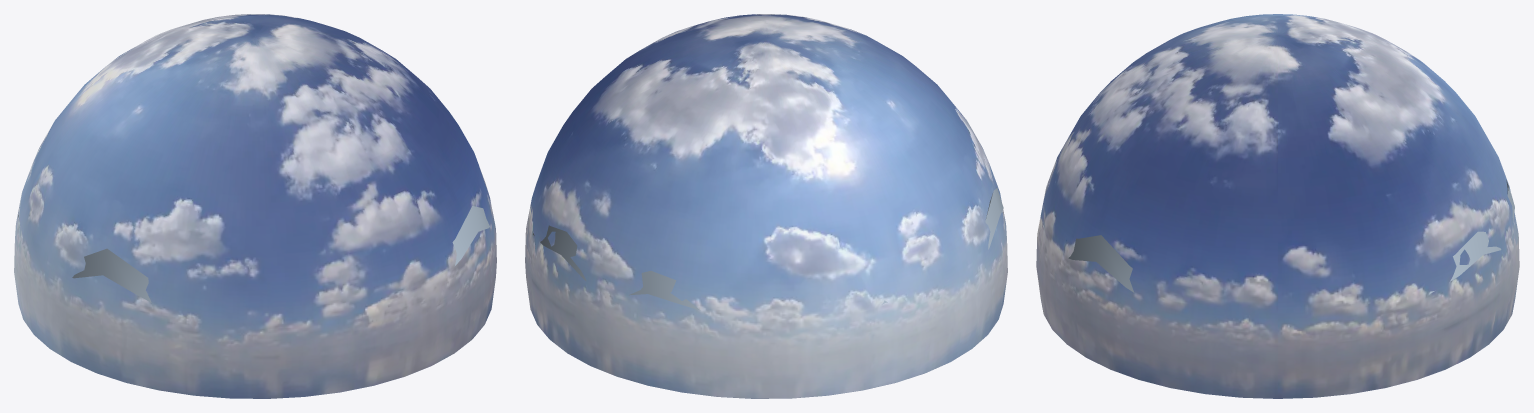
Rendered from shed-Ba9jpftx.glb.
3 views of the same model, side by side, from view 1: azimuth 30°, elevation 25°; view 2: azimuth 150°, elevation 25°; view 3: azimuth 270°, elevation 25° (orthographic).
Parts seen in each view (by area): view 1: SET_sky, SET_backdrop; view 2: SET_sky, SET_backdrop; view 3: SET_sky, SET_backdrop.
Boxes of the visible parts, <box> form: SET_sky: <box>14,14,496,398</box>; SET_backdrop: <box>18,206,489,302</box>; SET_sky: <box>525,14,1007,398</box>; SET_backdrop: <box>533,188,1003,310</box>; SET_sky: <box>1036,14,1519,398</box>; SET_backdrop: <box>1068,180,1514,294</box>.
Size of the model in its own units: 300 by 179 by 300.
38 materials, 12 textured.
